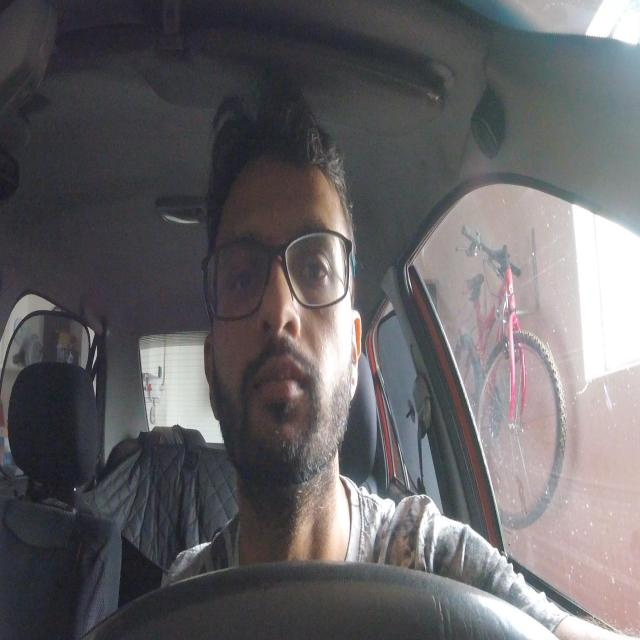open: (284, 223, 344, 309), (217, 232, 270, 309)
